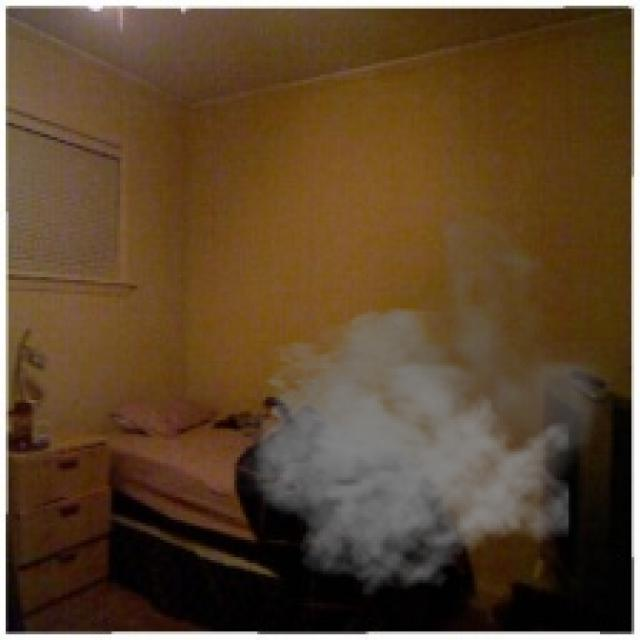smoke: (226, 206, 617, 597)
